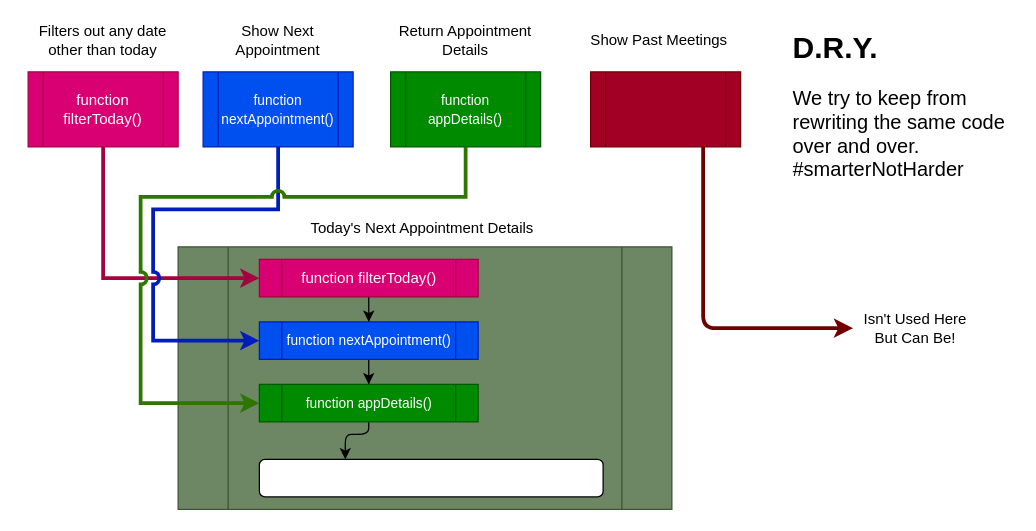
Image size: 1036x531. Some labels were removed from this diagram. The centre of each missing label's shape, as x and y in pixels:
"function pastMeetings()" belongs at pixel 665 109.
"Returns today's next appointment details" belongs at pixel 430 477.
